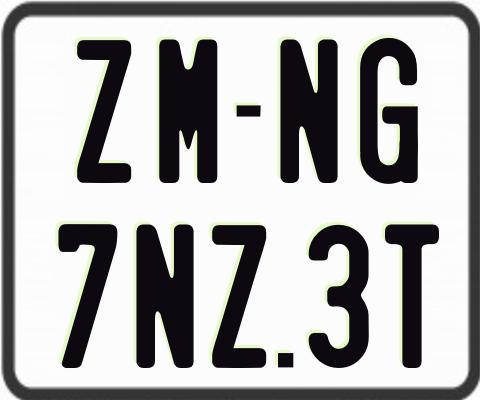3: (306, 225, 370, 368)
7: (58, 224, 118, 368)
G: (357, 36, 419, 185)
M: (156, 37, 216, 183)
N: (279, 36, 343, 186), (134, 222, 192, 370)
T: (383, 224, 440, 371)
Z: (212, 224, 271, 372), (75, 40, 133, 188)
